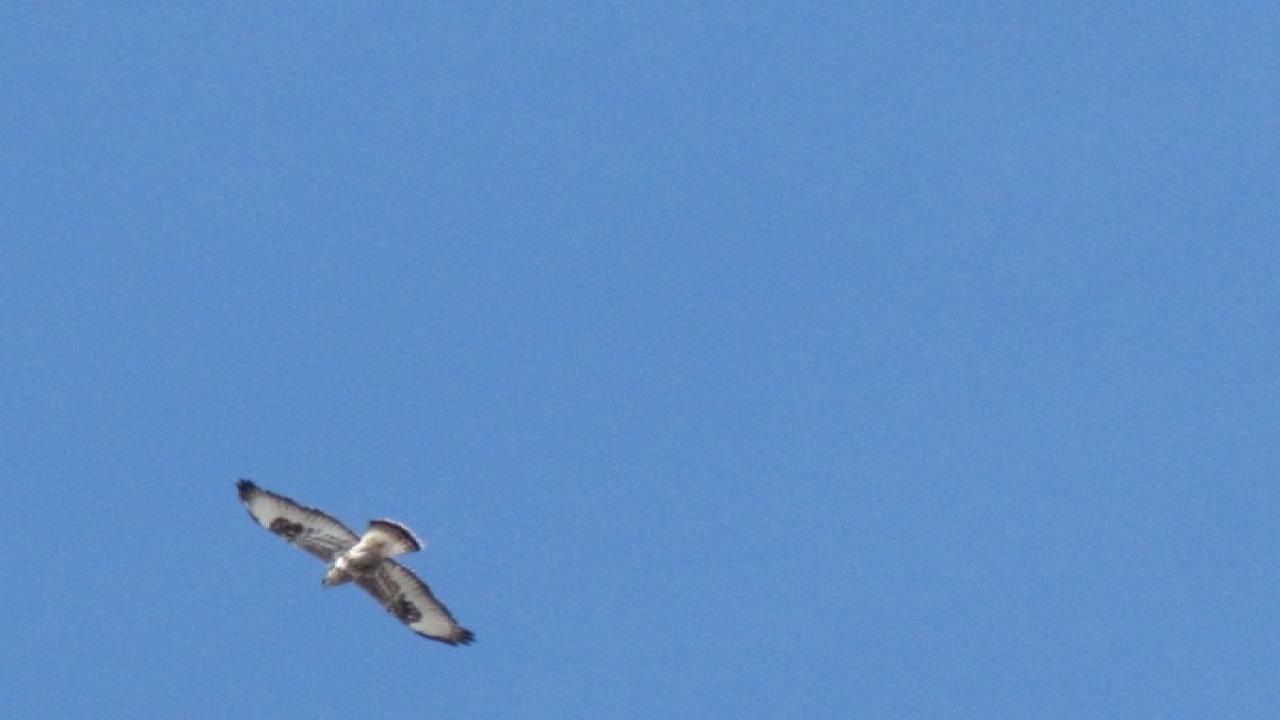Bird: (218, 468, 490, 653)
